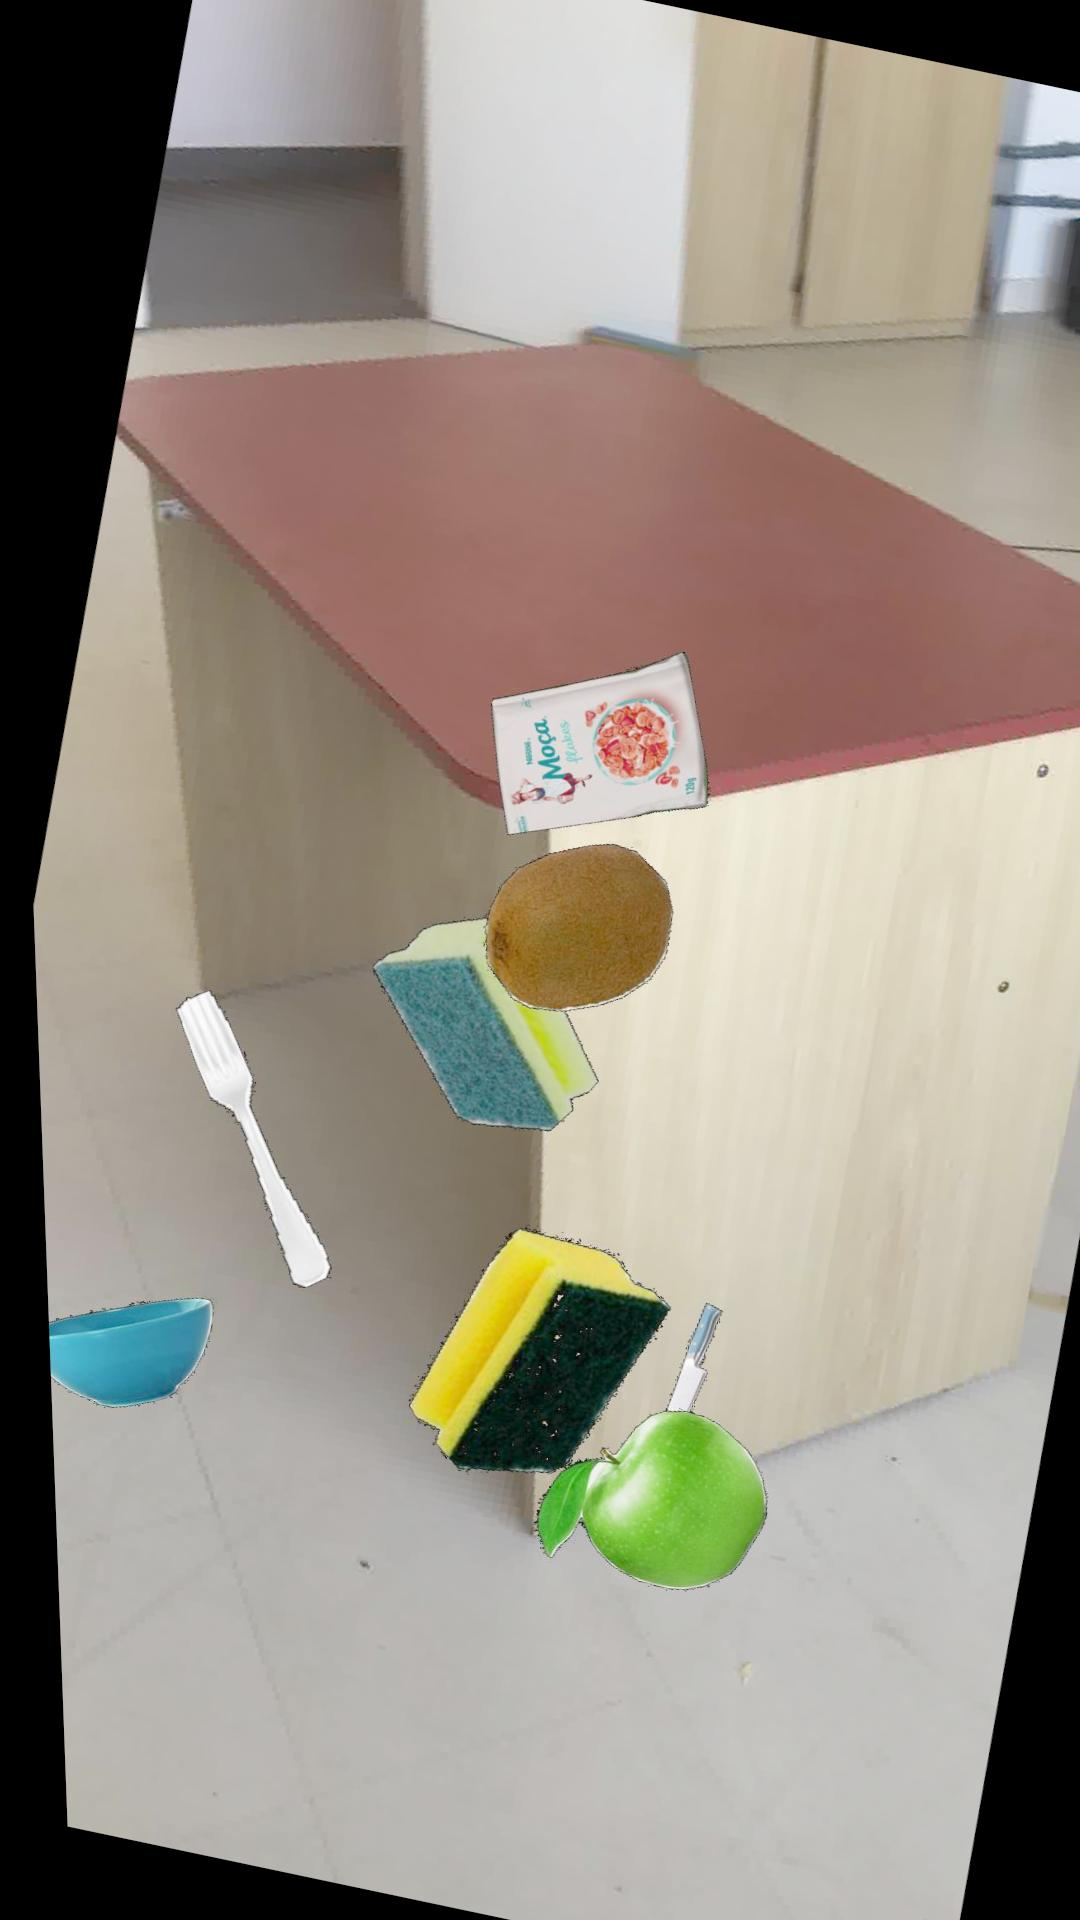bowl: (38, 1296, 202, 1407)
corn flakes: (484, 650, 703, 833)
fork: (166, 989, 320, 1287)
green apple: (520, 1407, 754, 1589)
kiwi: (476, 843, 665, 1010)
knife: (654, 1302, 711, 1410)
sponge: (396, 1225, 659, 1472), (363, 915, 588, 1129)
